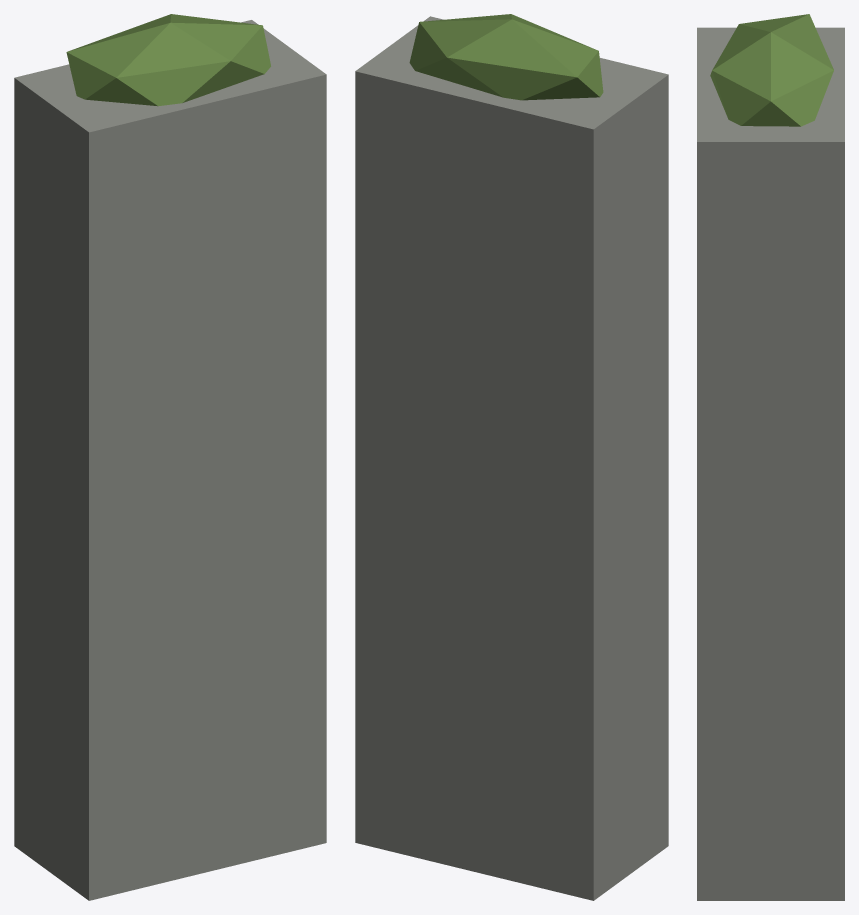
Rendered from standing_stone.glb.
3 views of the same model, side by side, from view 1: azimuth 30°, elevation 25°; view 2: azimuth 150°, elevation 25°; view 3: azimuth 270°, elevation 25° (orthographic).
Parts seen in each view (by area): view 1: standing_stone; view 2: standing_stone; view 3: standing_stone.
Part boxes in pixels (<box>): standing_stone: <box>14,14,326,900</box>; standing_stone: <box>355,14,668,900</box>; standing_stone: <box>697,14,844,900</box>.
Bounding box in the file's own units: 1.1 × 3.64 × 0.6.
